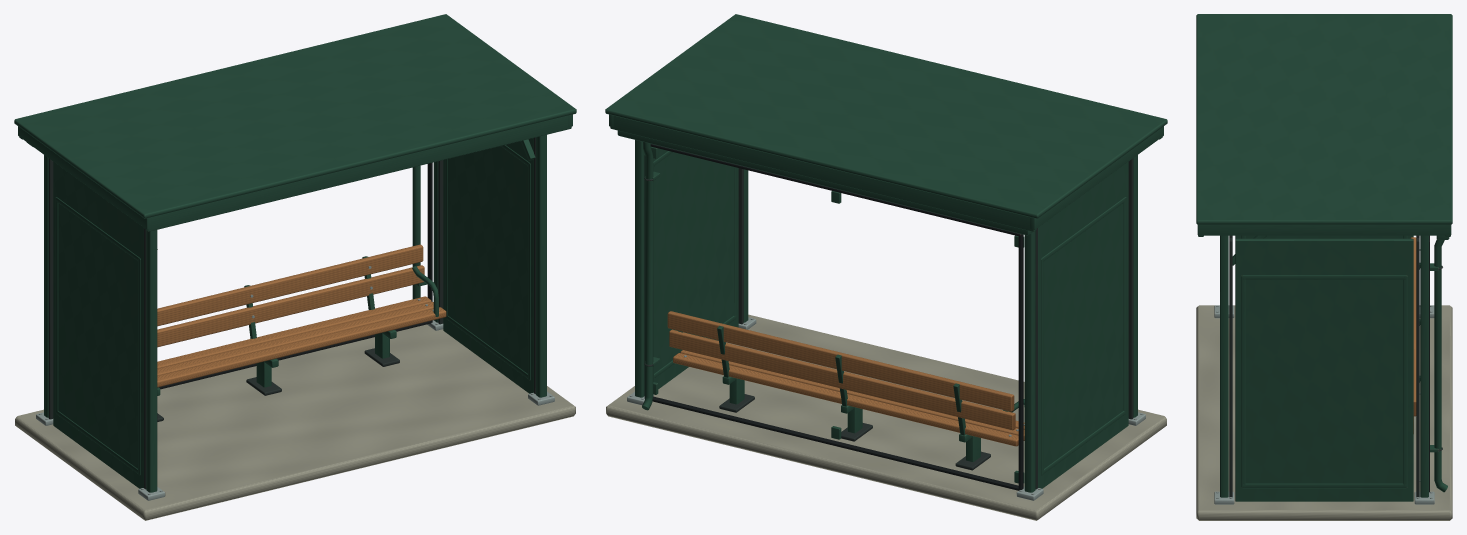
Rendered from bus-shelter-crafted.glb.
3 renders of one model, left to right at view 1: azimuth 30°, elevation 25°; view 2: azimuth 150°, elevation 25°; view 3: azimuth 270°, elevation 25°, orthographic. The views are drawn at different scales.
Visible parts, largest first — view 1: bus-shelter crafted; view 2: bus-shelter crafted; view 3: bus-shelter crafted.
Part boxes in pixels (x1=…): bus-shelter crafted: x1=14, y1=14, x2=576, y2=520; bus-shelter crafted: x1=605, y1=14, x2=1167, y2=520; bus-shelter crafted: x1=1196, y1=14, x2=1452, y2=520.
Size of the model in its own units: 4.4 by 2.99 by 2.3.
Materials: 1 (1 with a texture image).
